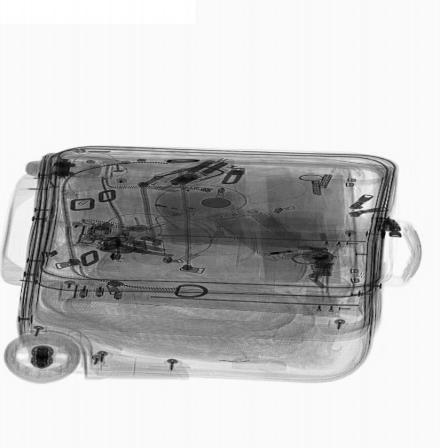Lighter: (152, 200, 204, 216)
